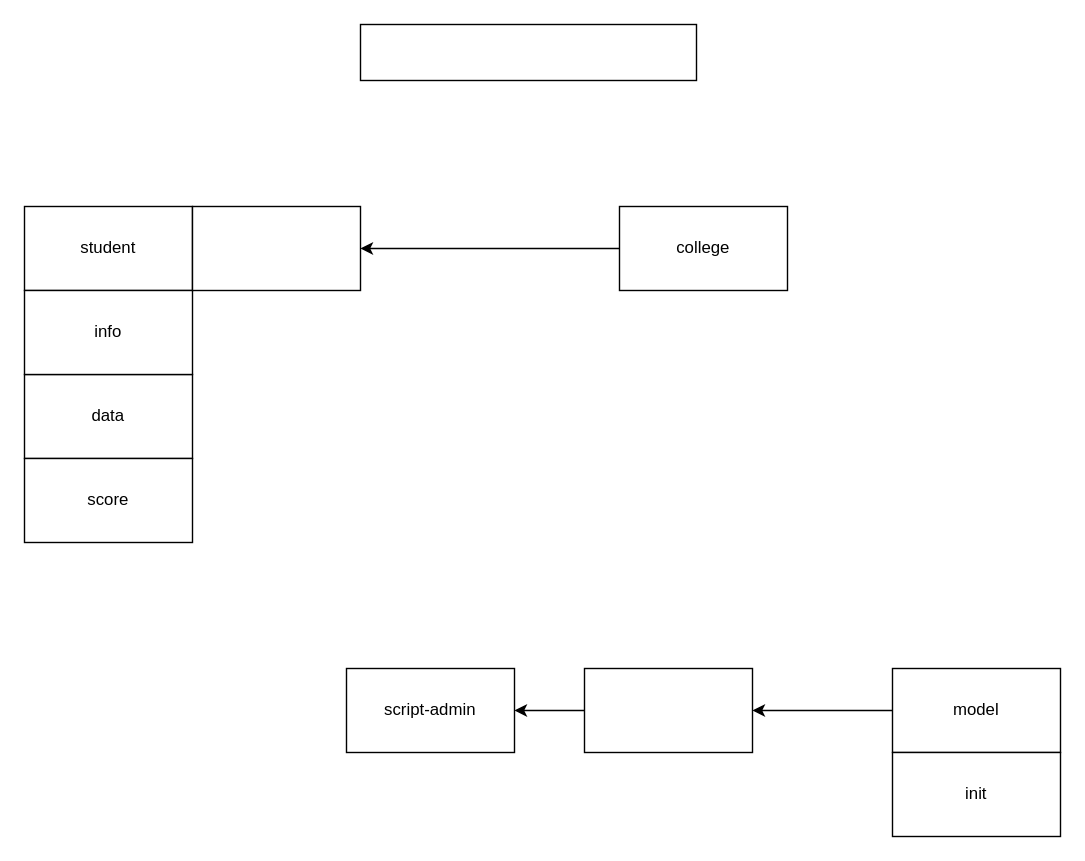
The diagram is 1085 pixels wide and 861 high, and some of its shapes have lost their labels. Each missing label, with the centre of its shape:
"collegeid" goes at point 275,247.
"makedata" goes at point 667,709.
"谁有 id 我指向谁" goes at point 527,51.
